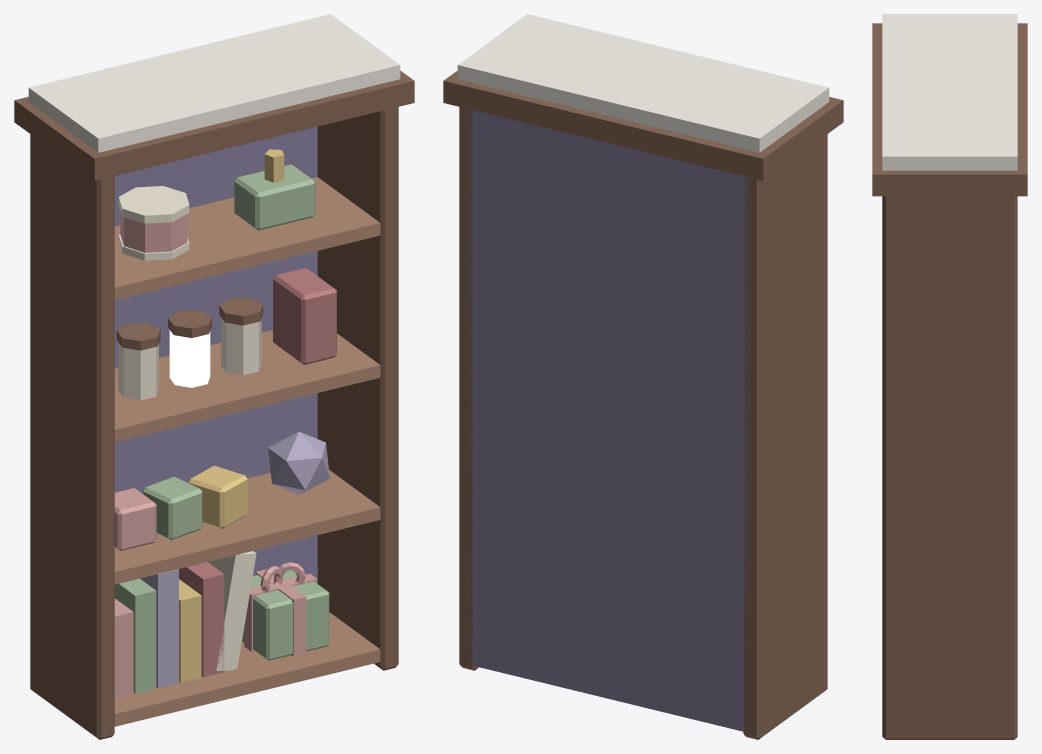
The model's file is sb_shelves.glb.
3 renders of one model, left to right at view 1: azimuth 30°, elevation 25°; view 2: azimuth 150°, elevation 25°; view 3: azimuth 270°, elevation 25°, orthographic. The views are drawn at different scales.
Visible parts, largest first — view 1: shelves; view 2: shelves; view 3: shelves.
Boxes of the visible parts, x1=… form: shelves: x1=14, y1=14, x2=414, y2=739; shelves: x1=443, y1=14, x2=843, y2=739; shelves: x1=872, y1=14, x2=1027, y2=739.
Size of the model in its own units: 1.06 by 1.91 by 0.46.
